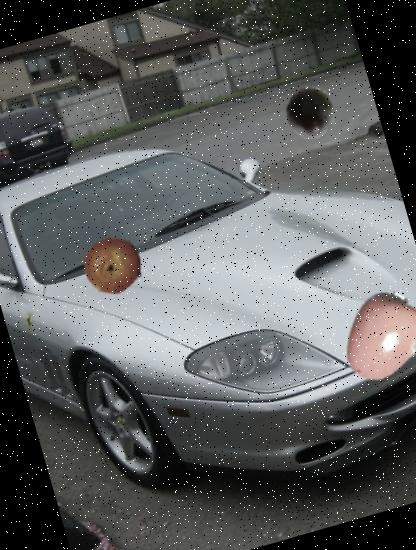Clementine: (77, 228, 151, 302)
Kaki: (326, 280, 416, 395)
Plum: (278, 80, 344, 146)
